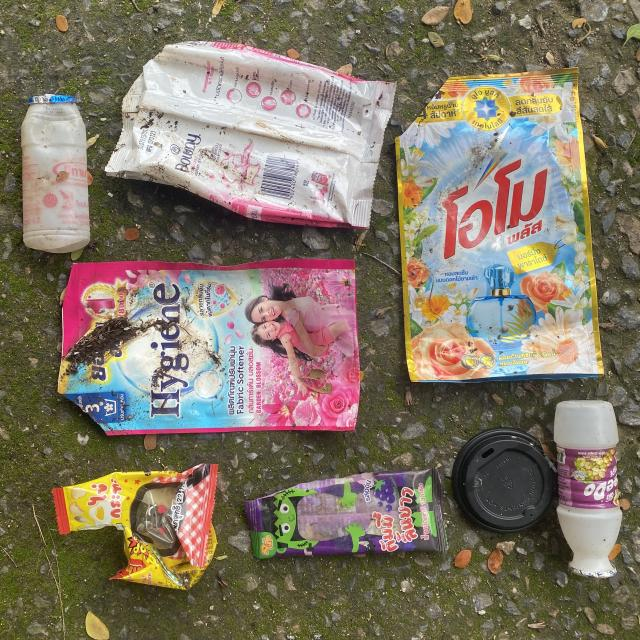HDPE Plastic: (554, 400, 622, 578), (21, 95, 90, 254)
Single-Use-Plastic: (452, 428, 556, 532)
